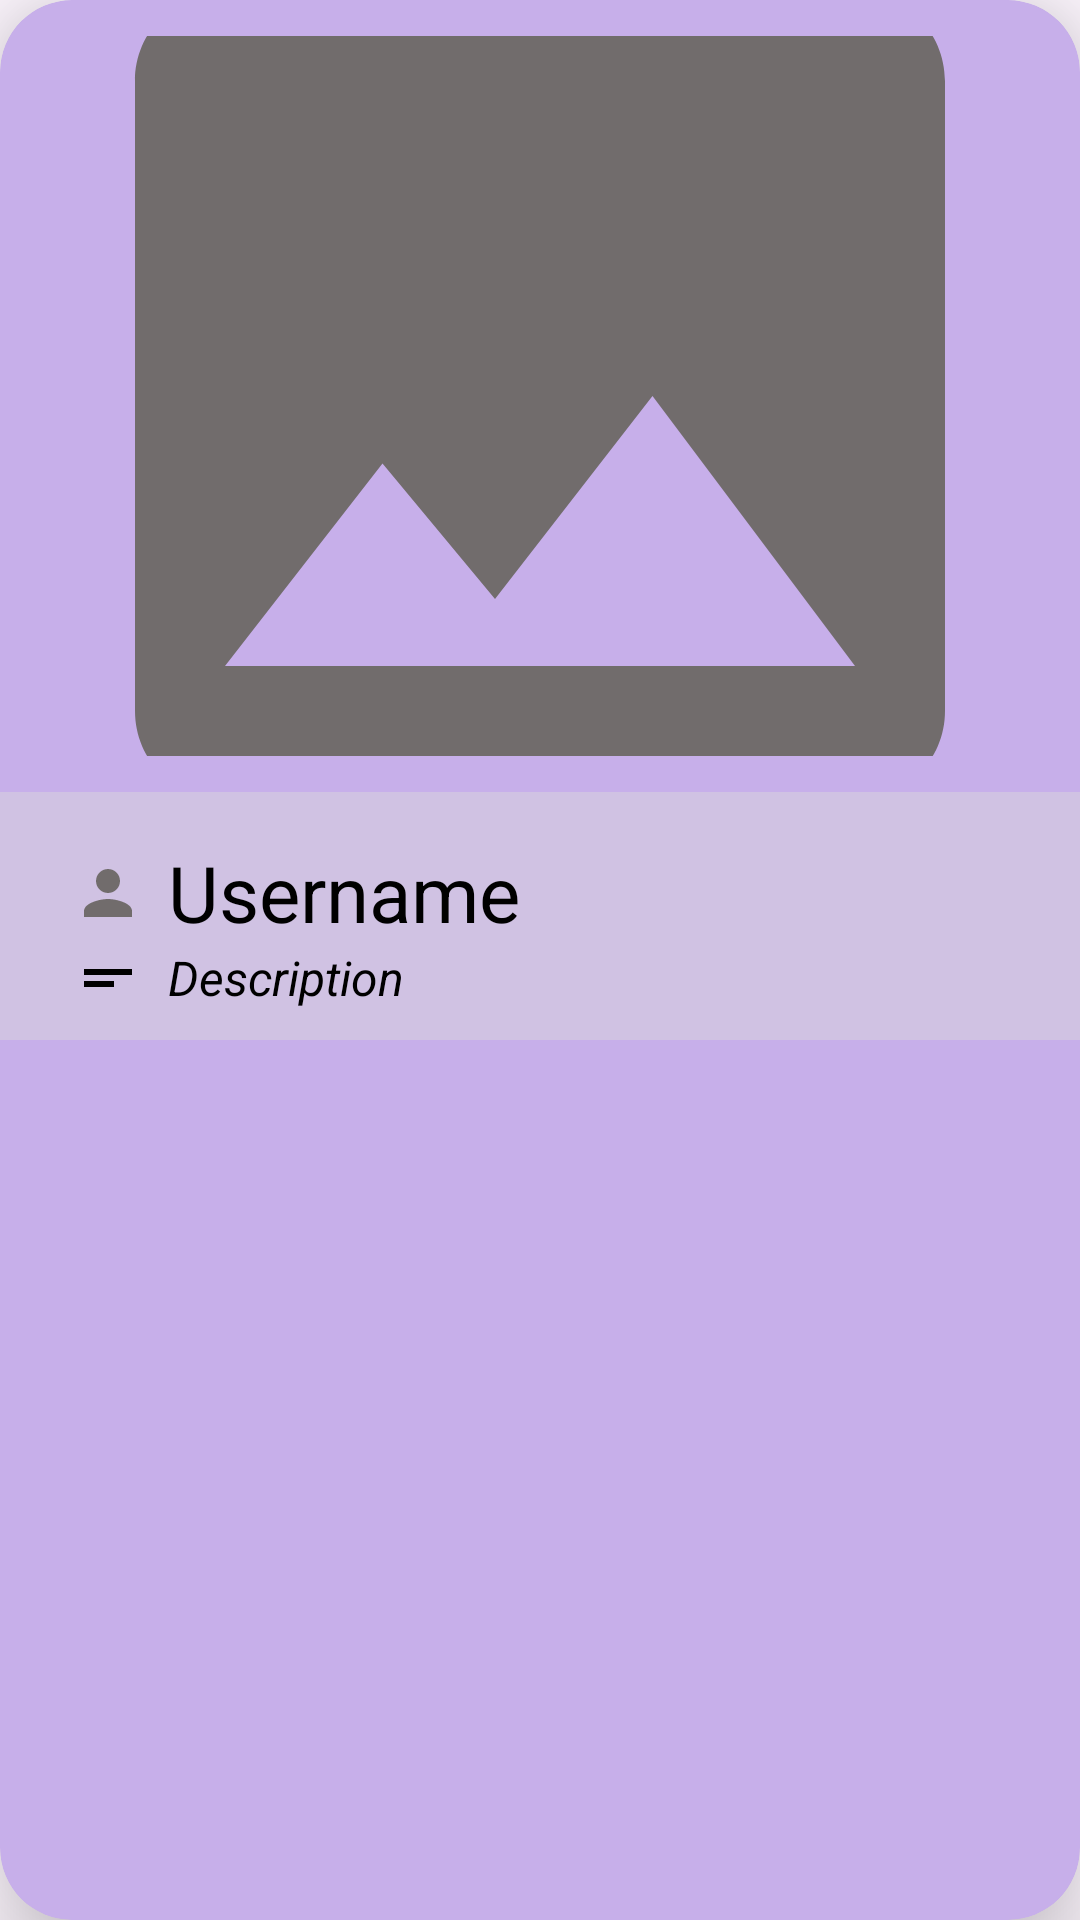

Icons on this 1080×1920 Android screen, each with the point to tap as (x,y):
person: (108,893)
text: (108,978)
